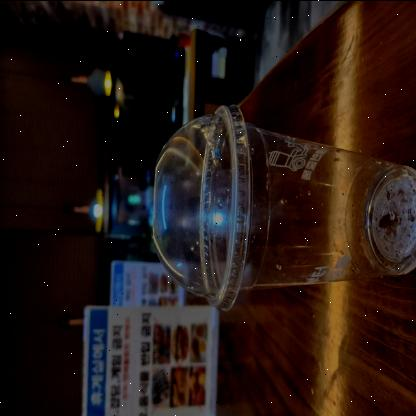Others: (140, 98, 254, 304)
